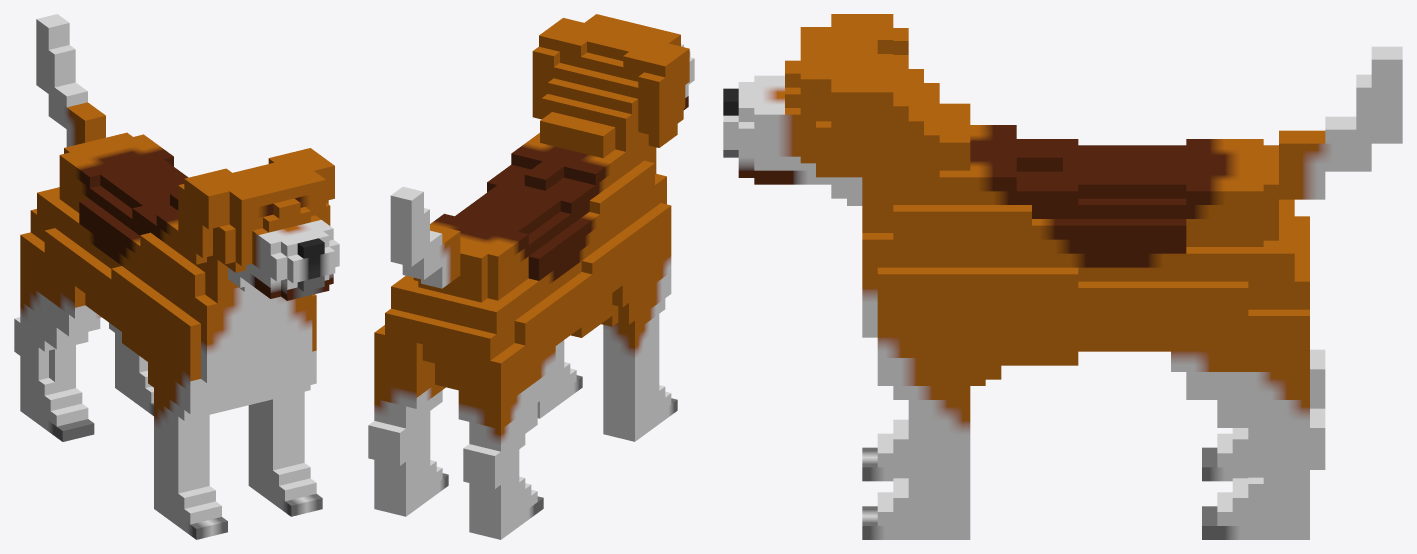
The model's file is beagle.fbx.
3 views of the same model, side by side, from view 1: azimuth 30°, elevation 25°; view 2: azimuth 150°, elevation 25°; view 3: azimuth 270°, elevation 25° (orthographic). The views are drawn at different scales.
Parts seen in each view (by area): view 1: beagle; view 2: beagle; view 3: beagle.
Boxes of the visible parts, left/top/right/bottom form: beagle: left=14, top=14, right=339, bottom=539; beagle: left=368, top=14, right=694, bottom=539; beagle: left=723, top=14, right=1402, bottom=539.
Bounding box in the file's own units: 12 × 32 × 44.
Materials: 1 (1 with a texture image).
